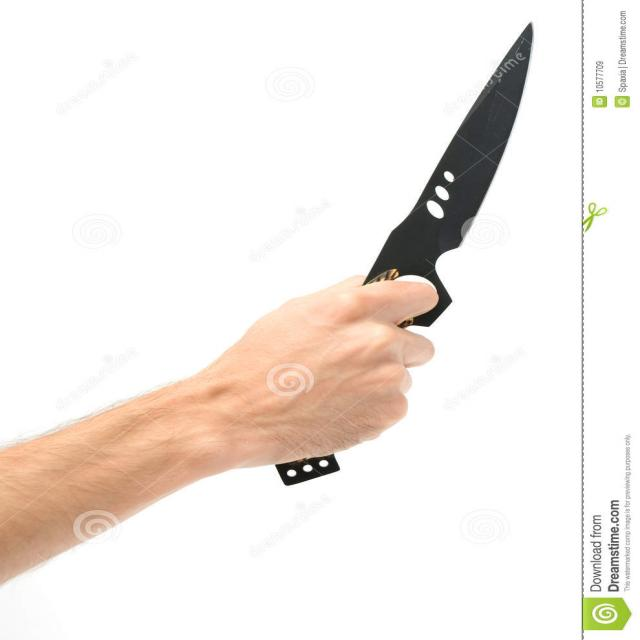knife: (278, 18, 537, 504)
